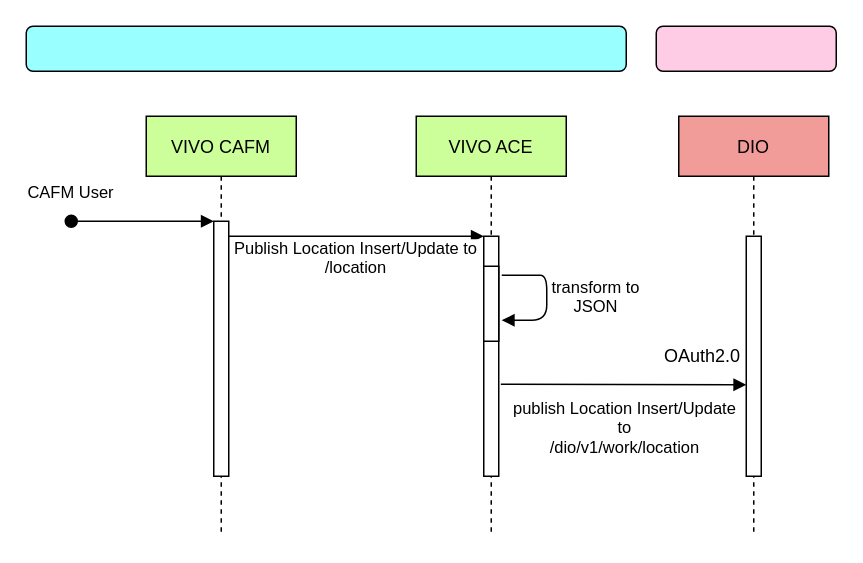
Image size: 863x563. Some labels were removed from this diagram. The shapes that lost their labels are listed below. From the top down, each one's centre as x and y in pixels, then its label:
At [325,48]: "VIVO Infrastructure".
At [745,48]: "DIO Infrastructure".
